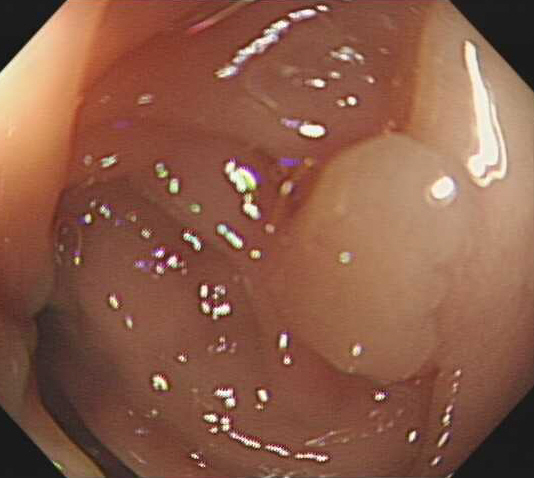adenoma: (275, 130, 474, 381)
